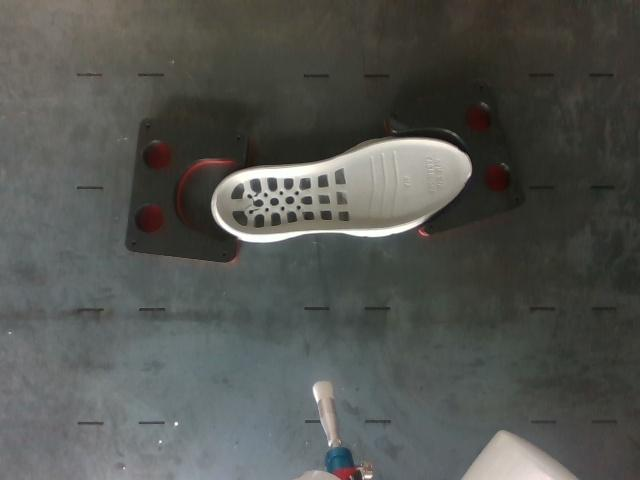shoes: (216, 140, 471, 235)
